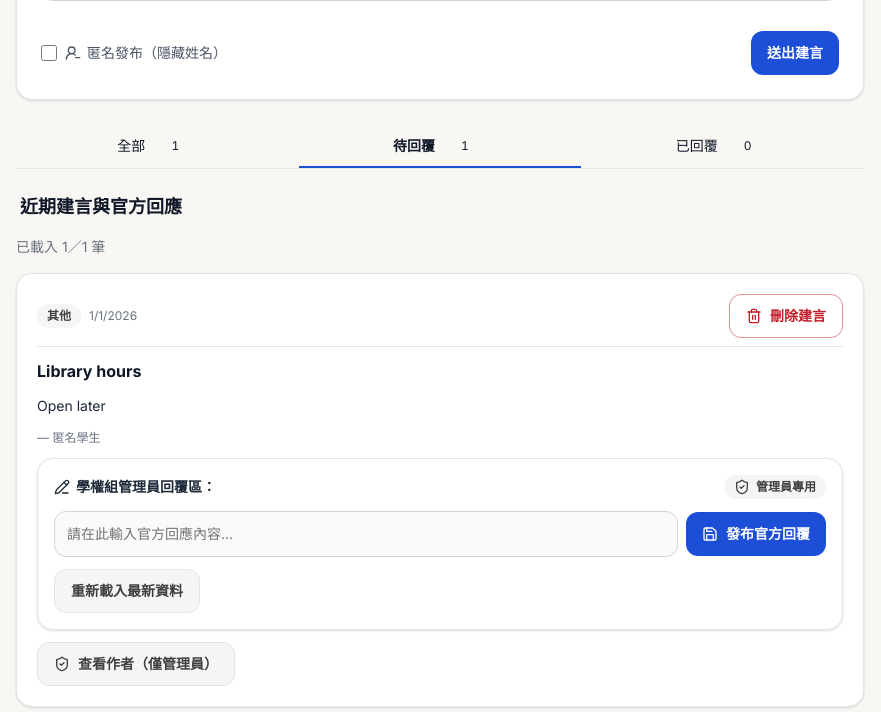
retains the pending lock through tab remount and does not steal focus from a clicked tab
(page scrolled)
Expected: the text "Open later" is shown, [37,397,106,414]
Type "Saved reply" into the field named "回覆「Library hours」".
click(366, 534); type("Saved reply")  # box [54,511,678,557]
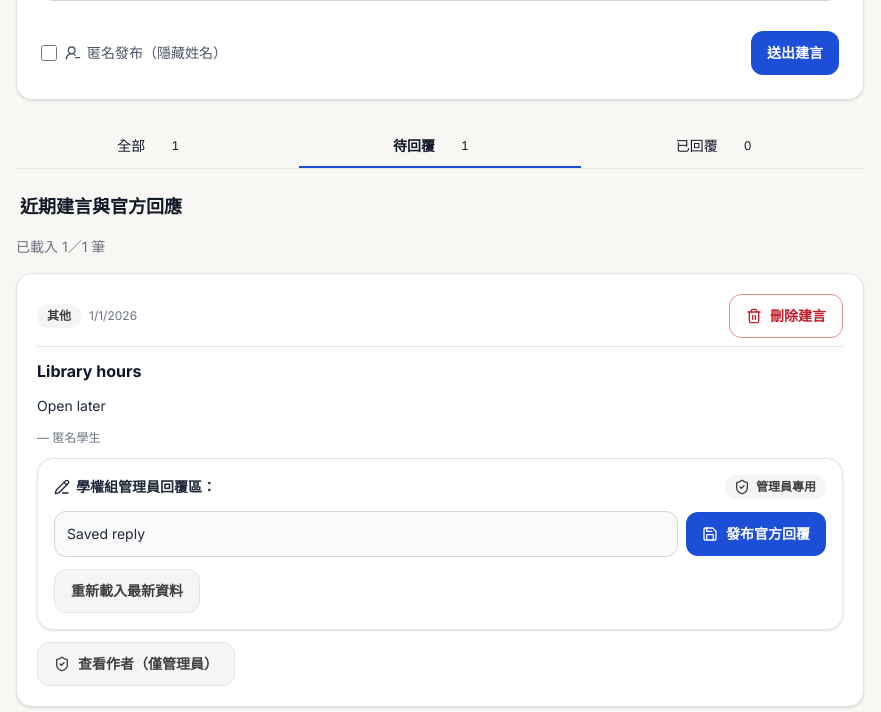
Click the button "發布官方回覆".
click(756, 534)  # box [686,512,826,556]
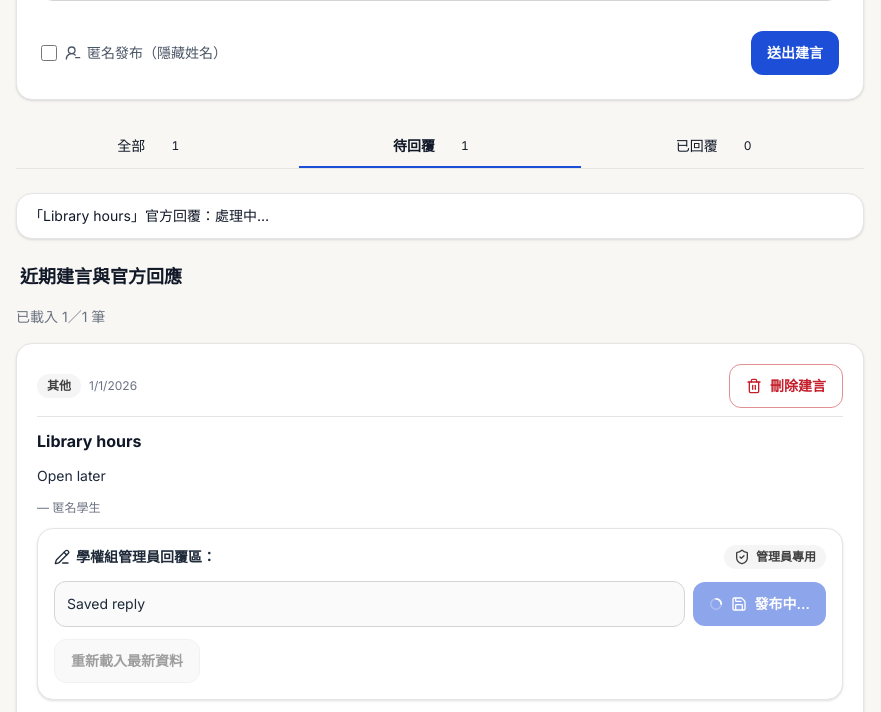
When returning before the receipt, then leaving focus on another tab as it completes.
Click the tab "已回覆 0".
click(697, 146)  # box [581,124,864,168]
(page scrolled)
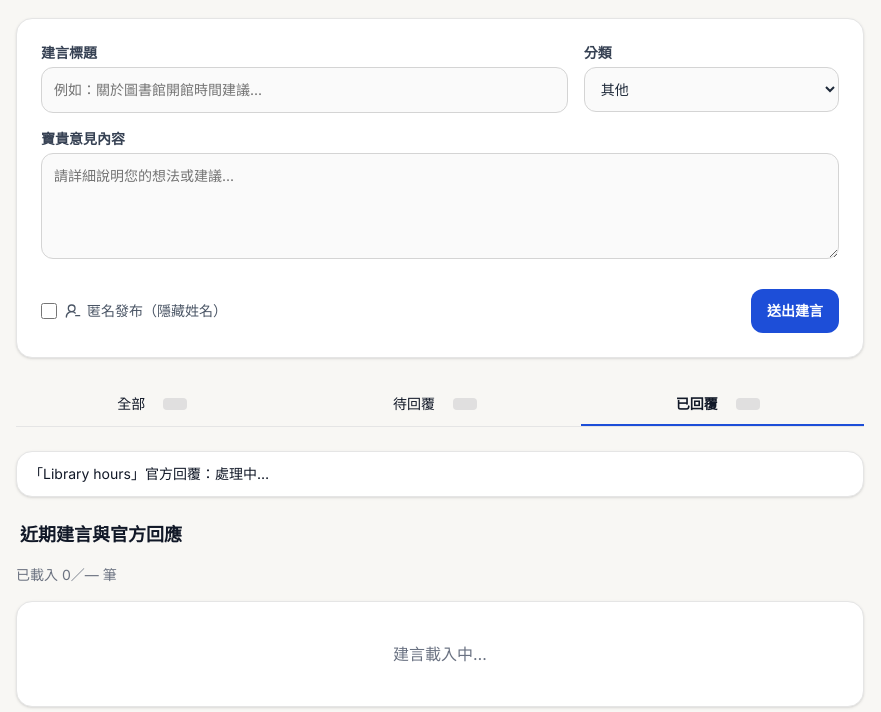
Click the tab "待回覆".
click(414, 404)  # box [299,382,581,426]
(page scrolled)
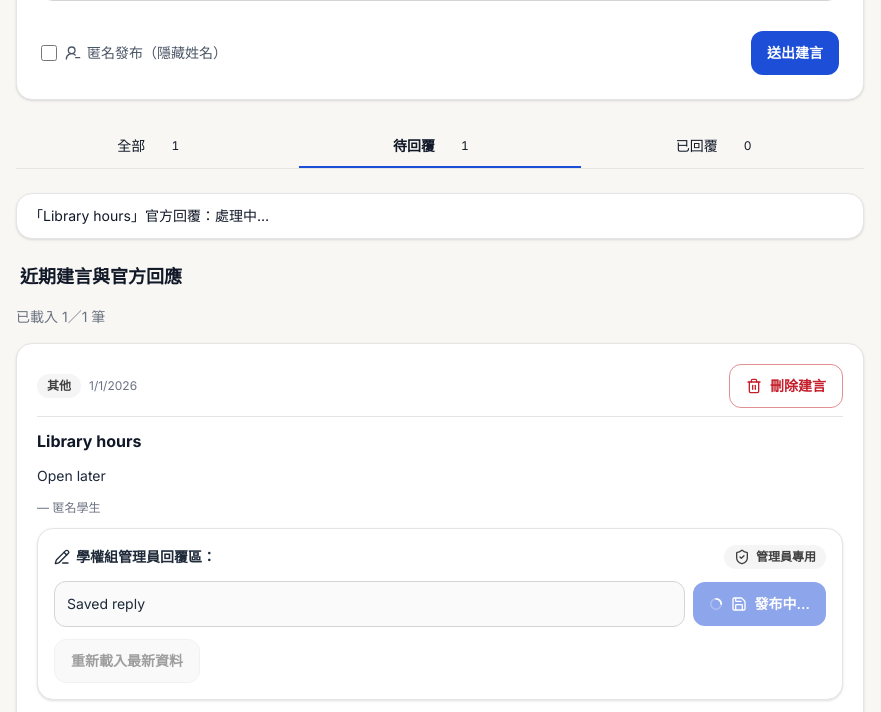
Now the text "Open later" is shown, box [37,467,106,484]
Now the button "發布中..." is disabled
Now the field named "回覆「Library hours」" holds "Saved reply", box [54,581,685,627]
Click the button "發布中...".
click(759, 604)  # box [693,582,826,626]
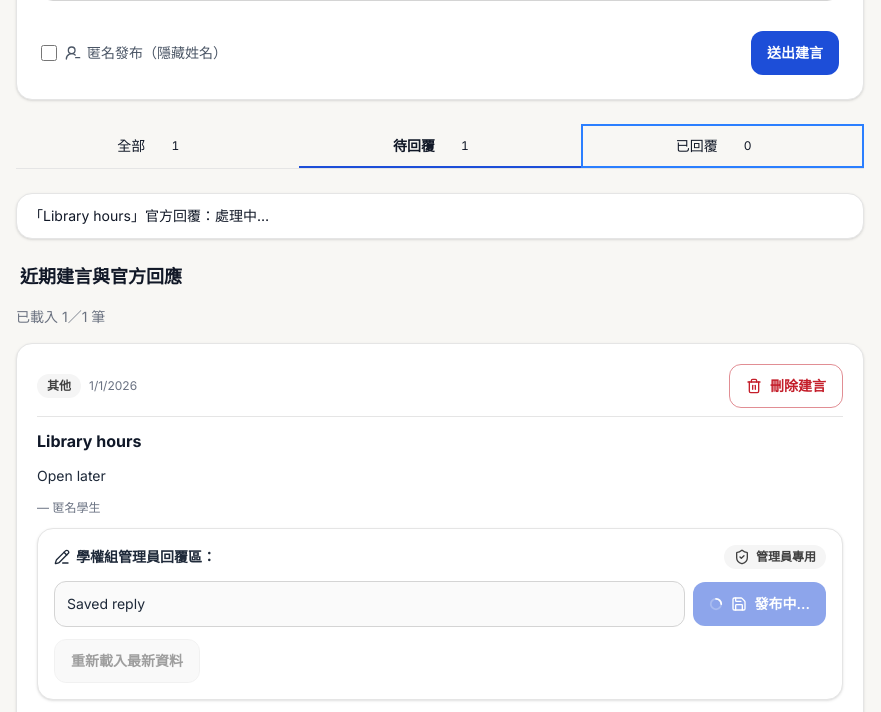
Click the tab "已回覆 0".
click(697, 146)  # box [581,124,864,168]
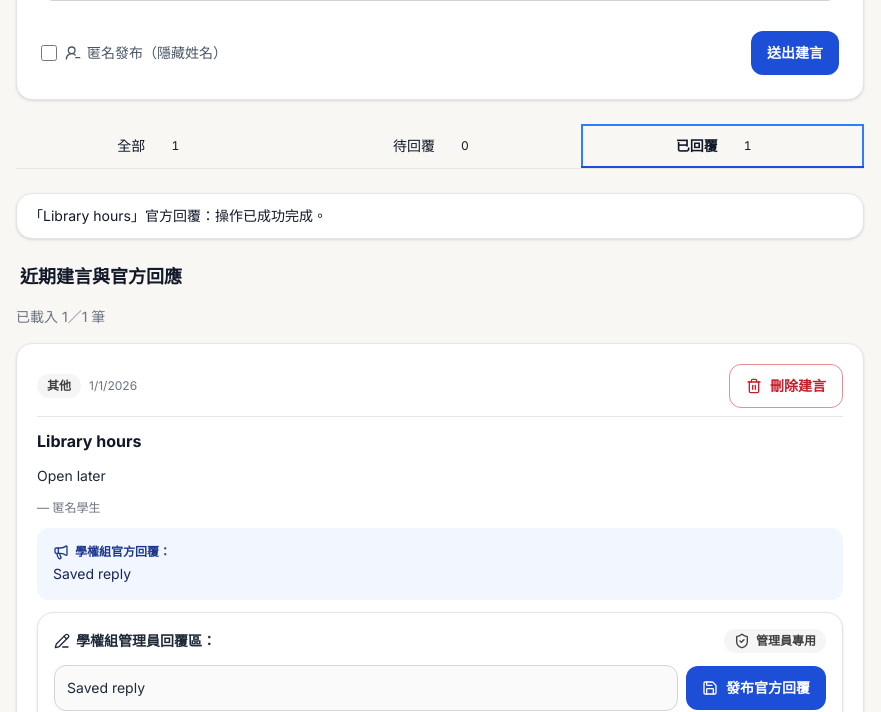
Now the text "Saved reply" is shown, box [53,565,131,582]
Now the message reads "「Library hours」官方回覆：操作已成功完成。", box [29,207,327,224]
